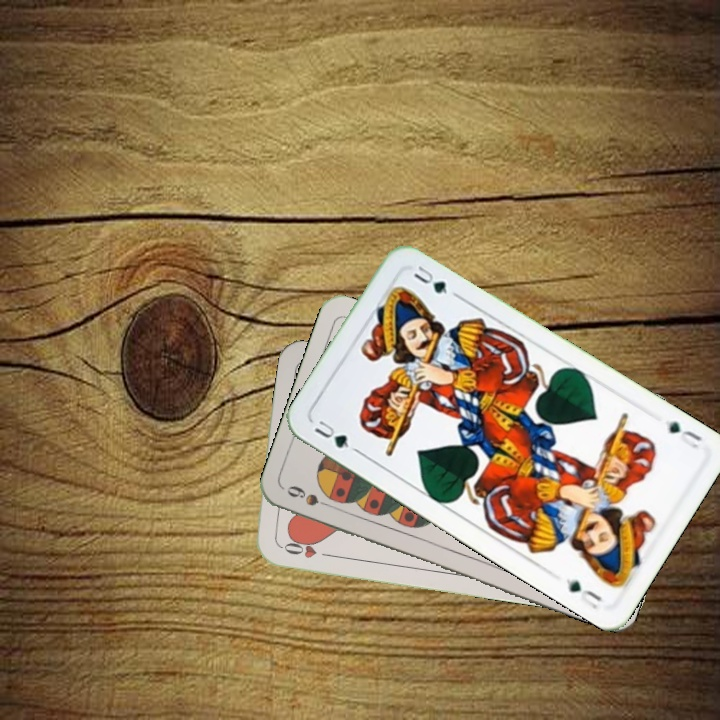GU: (661, 416, 705, 451), (310, 416, 352, 451)
HO: (275, 533, 334, 561)
S9: (283, 481, 340, 512)
